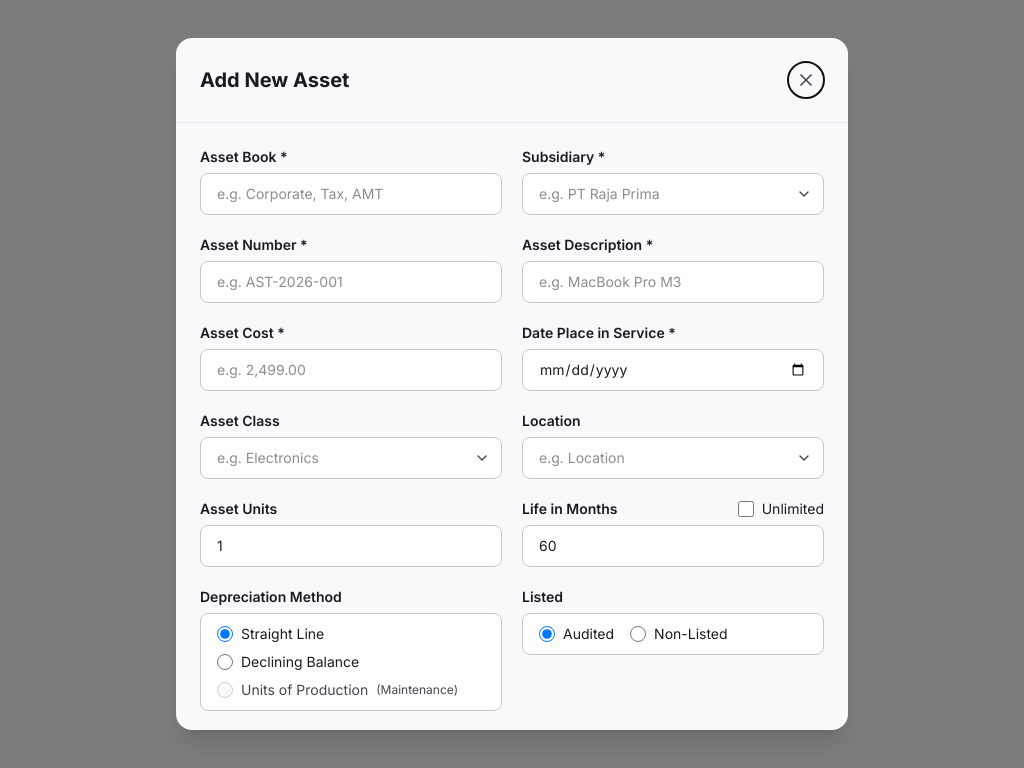
AddAssetModal — save flow › keeps the modal open and shows a "Failed to save asset" banner when addAsset rejects
In the field with placeholder "e.g. Corporate, Tax, AMT": (351, 194) [200,173,502,215], type "Corporate"
In the field with placeholder "e.g. PT Raja Prima": (673, 194) [522,173,824,215], type "PT Raja Prima"
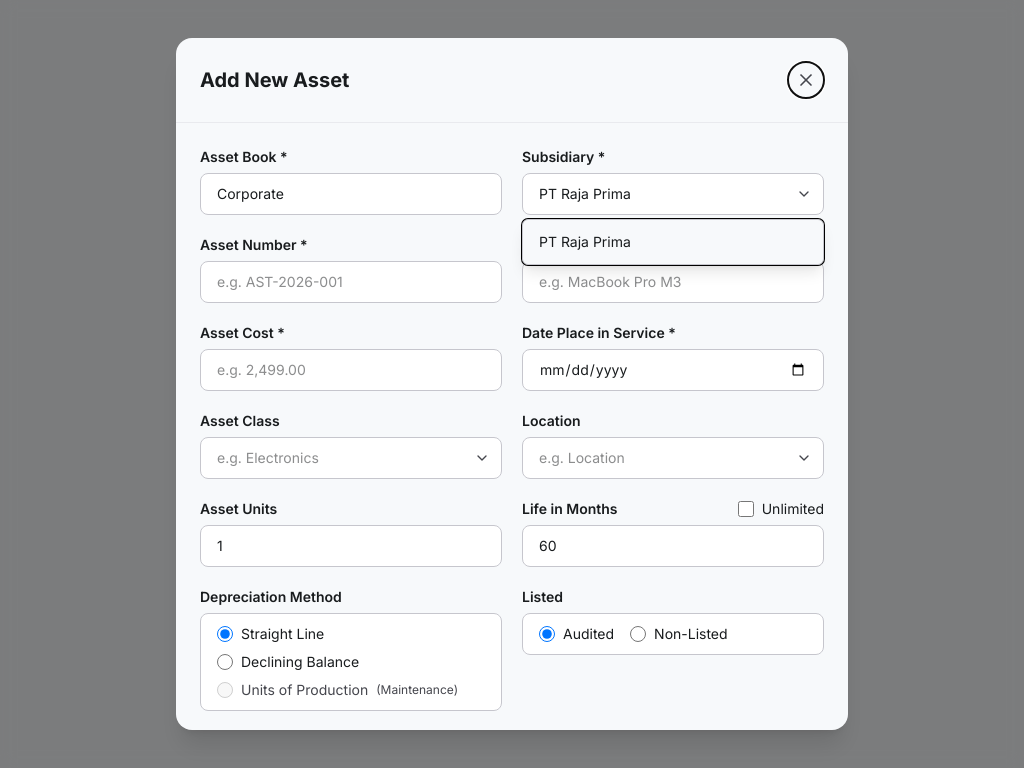
In the field with placeholder "e.g. AST-2026-001": (351, 282) [200,261,502,303], type "AST-2026-001"
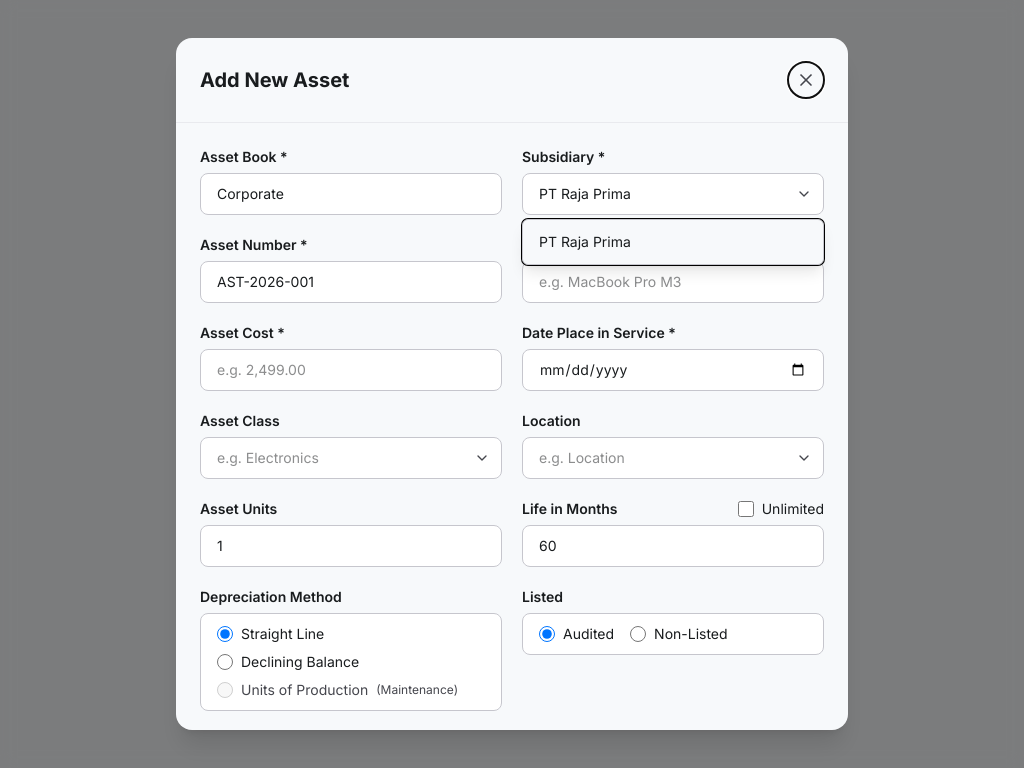
In the field with placeholder "e.g. MacBook Pro M3": (673, 282) [522,261,824,303], type "MacBook Pro M3"
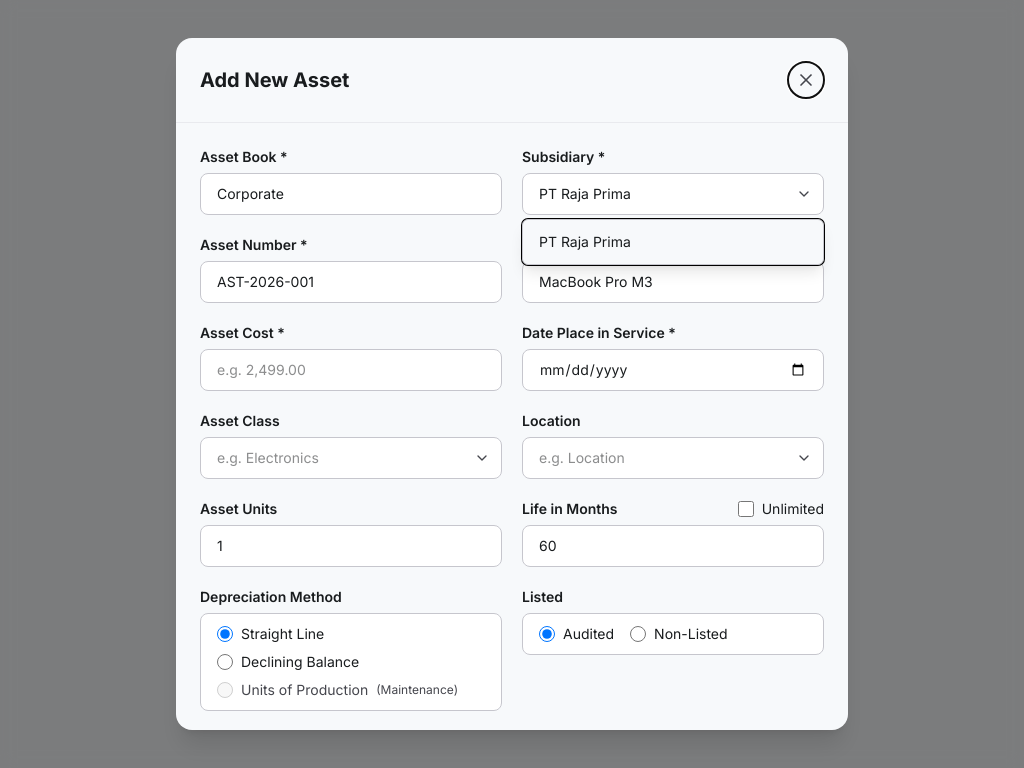
In the field with placeholder "e.g. 2,499.00": (351, 370) [200,349,502,391], type "2499.00"
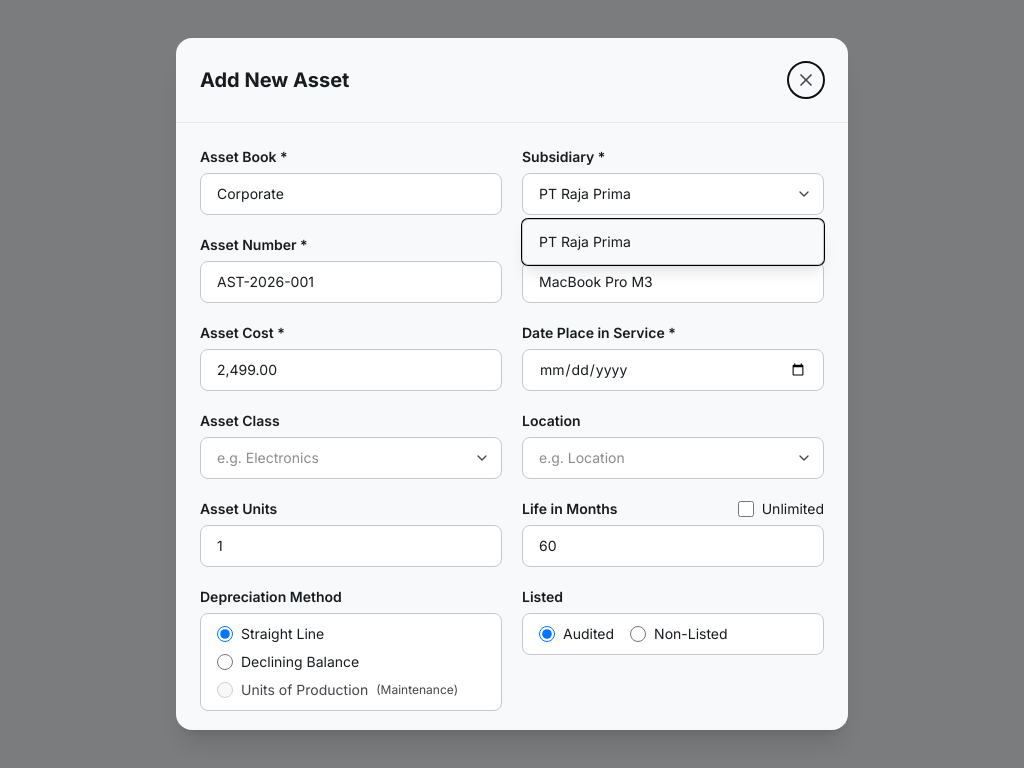
In the date field: (673, 370) [522,349,824,391], type "2026-01-15"
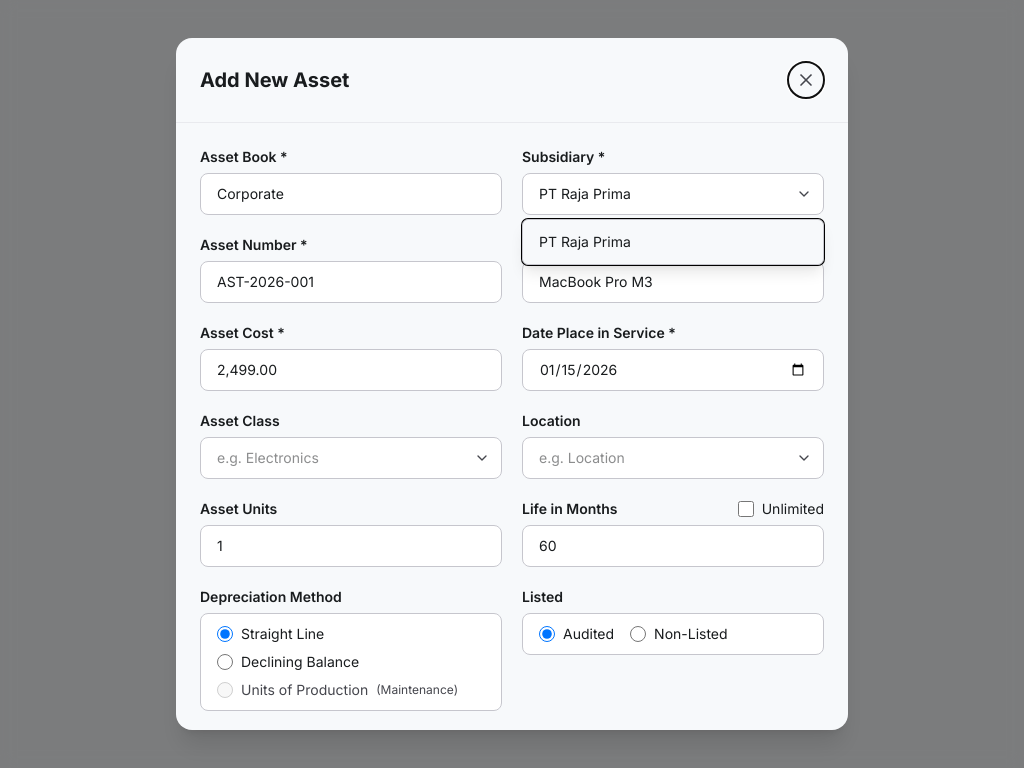
Submit the form, box [176,123,848,730]
(page scrolled)
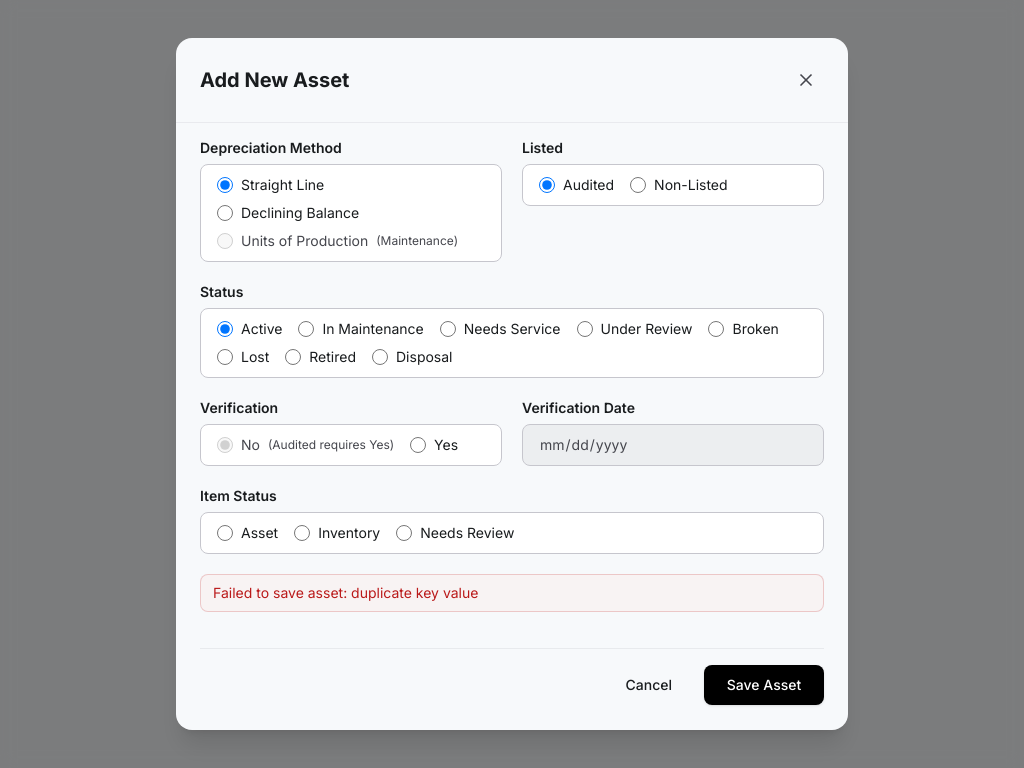
Expected: the text "Failed to save asset: duplicate key value" is shown, [200,574,824,612]
Expected: the button "Save Asset" is enabled, [704,665,824,705]
